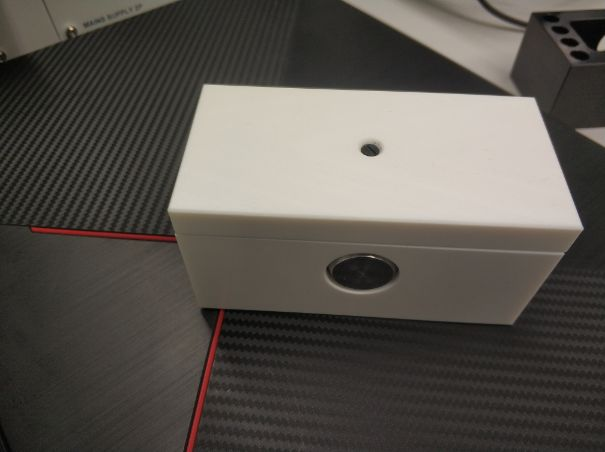white+white+silver: (160, 79, 587, 331)
